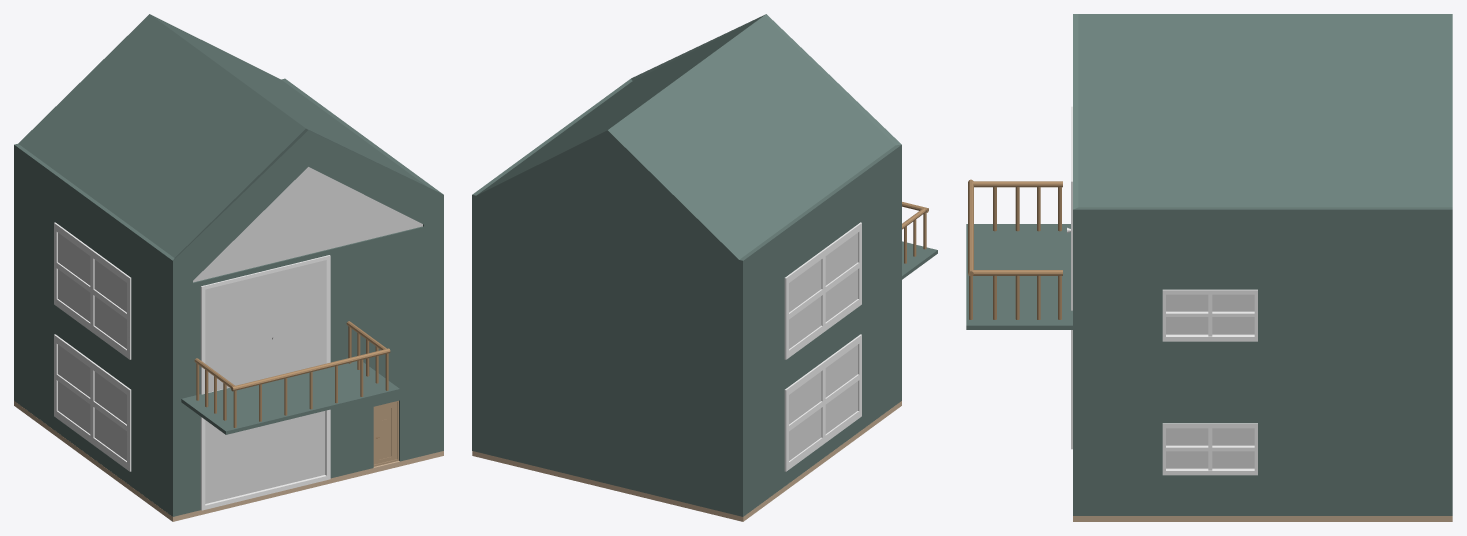
The model's file is House_13.fbx.
3 renders of one model, left to right at view 1: azimuth 30°, elevation 25°; view 2: azimuth 150°, elevation 25°; view 3: azimuth 270°, elevation 25°, orthographic. The views are drawn at different scales.
Visible parts, largest first — view 1: House_13_Body, House_13_Window.003, House_13_Window.007, House_13_Window, House_13_Window.001, House_13_Window.004, House_13_Window.006, House_13_Door; view 2: House_13_Body, House_13_Window.004, House_13_Window.006; view 3: House_13_Body, House_13_Window.002, House_13_Window.005.
Part boxes in pixels (left/top/right/bottom): House_13_Body: left=14, top=14, right=443, bottom=521; House_13_Window.003: left=193, top=167, right=422, bottom=282; House_13_Window.007: left=205, top=411, right=325, bottom=503; House_13_Window: left=264, top=260, right=326, bottom=378; House_13_Window.001: left=205, top=275, right=264, bottom=392; House_13_Window.004: left=56, top=344, right=128, bottom=460; House_13_Window.006: left=56, top=233, right=128, bottom=348; House_13_Door: left=373, top=400, right=398, bottom=466; House_13_Body: left=472, top=14, right=937, bottom=521; House_13_Window.004: left=789, top=345, right=860, bottom=460; House_13_Window.006: left=789, top=233, right=860, bottom=348; House_13_Body: left=966, top=14, right=1452, bottom=521; House_13_Window.002: left=1166, top=428, right=1254, bottom=470; House_13_Window.005: left=1166, top=294, right=1254, bottom=336.
Bounding box in the file's own units: 1030 × 1288 × 1324.
